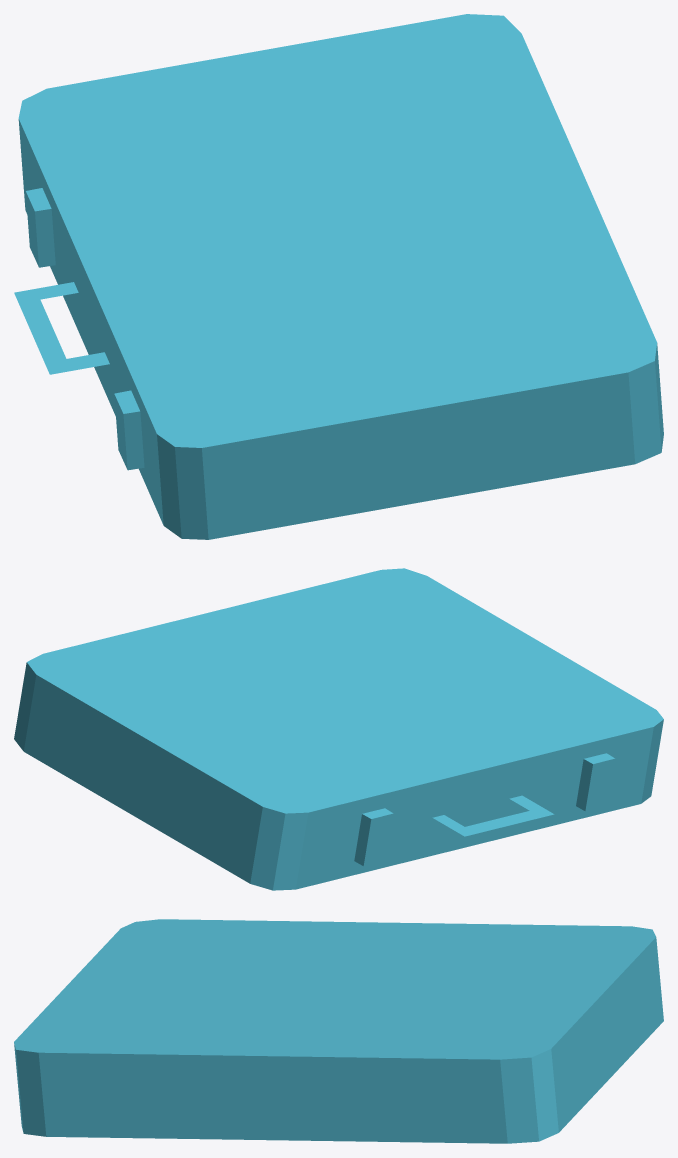
File: fmfakit.obj
The picture shows the model from 3 angles, top to bottom: view 1: azimuth 30°, elevation 25°; view 2: azimuth 150°, elevation 25°; view 3: azimuth 270°, elevation 25°; orthographic projection. The views are drawn at different scales.
Visible parts, largest first — view 1: Box01; view 2: Box01; view 3: Box01.
Boxes of the visible parts, x1,y1,x2,y2 form: Box01: (14,14,663,539); Box01: (14,568,663,890); Box01: (14,919,663,1143).
Bounding box in the file's own units: 27.13 × 9.29 × 32.08.
